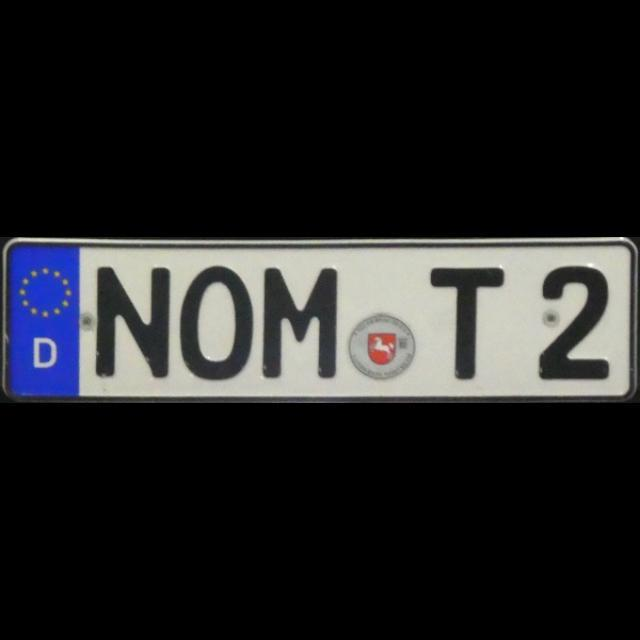license-plates: (3, 238, 639, 400)
